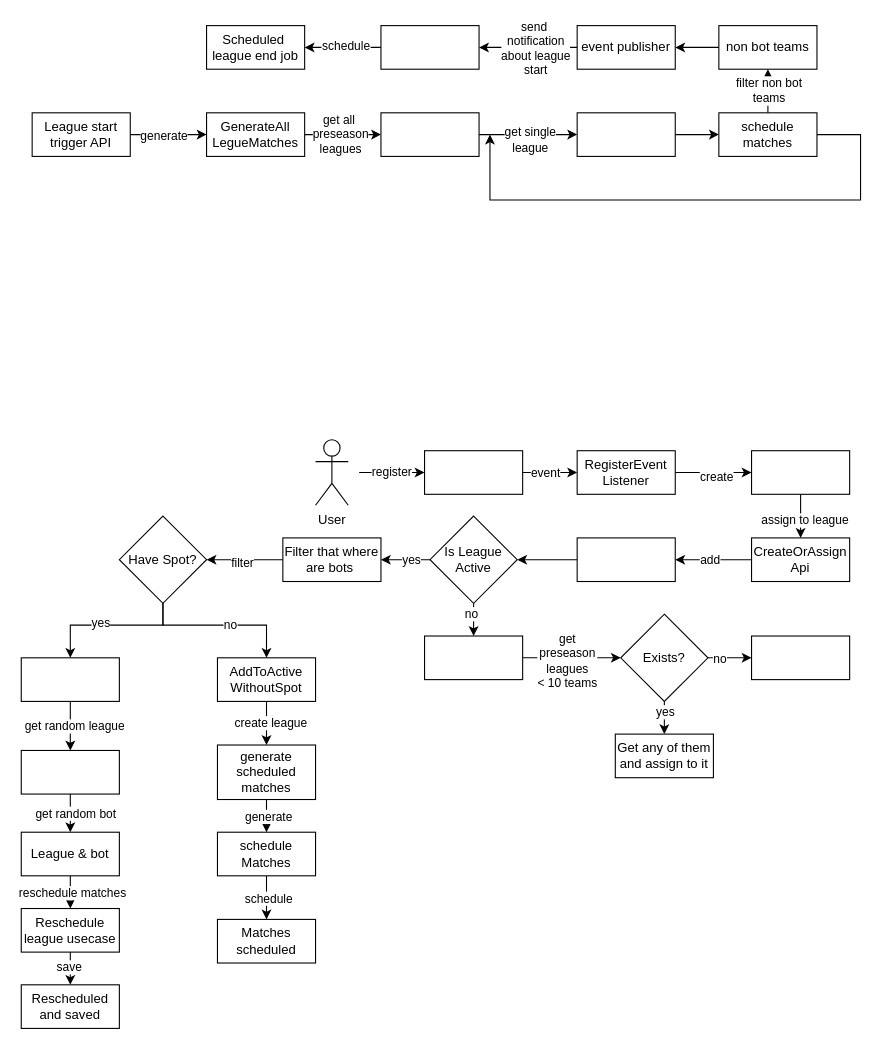
Some shapes in this 888 by 1047 pixel diagram are drawn without their labels. Here are the shapes that lost their labels. From the top down, the centre of each, then its label:
At [429,47]: "published".
At [429,134]: "All leagues".
At [625,134]: "generate matches".
At [473,472]: "RegisterUse Case".
At [800,472]: "CreateTeam UseCase".
At [625,559]: "AddTeamTo League".
At [473,657]: "AddTeamTo Preseason".
At [800,657]: "Create new and assign".
At [69,679]: "AddToActive WithSpot".
At [69,771]: "League w spot".
